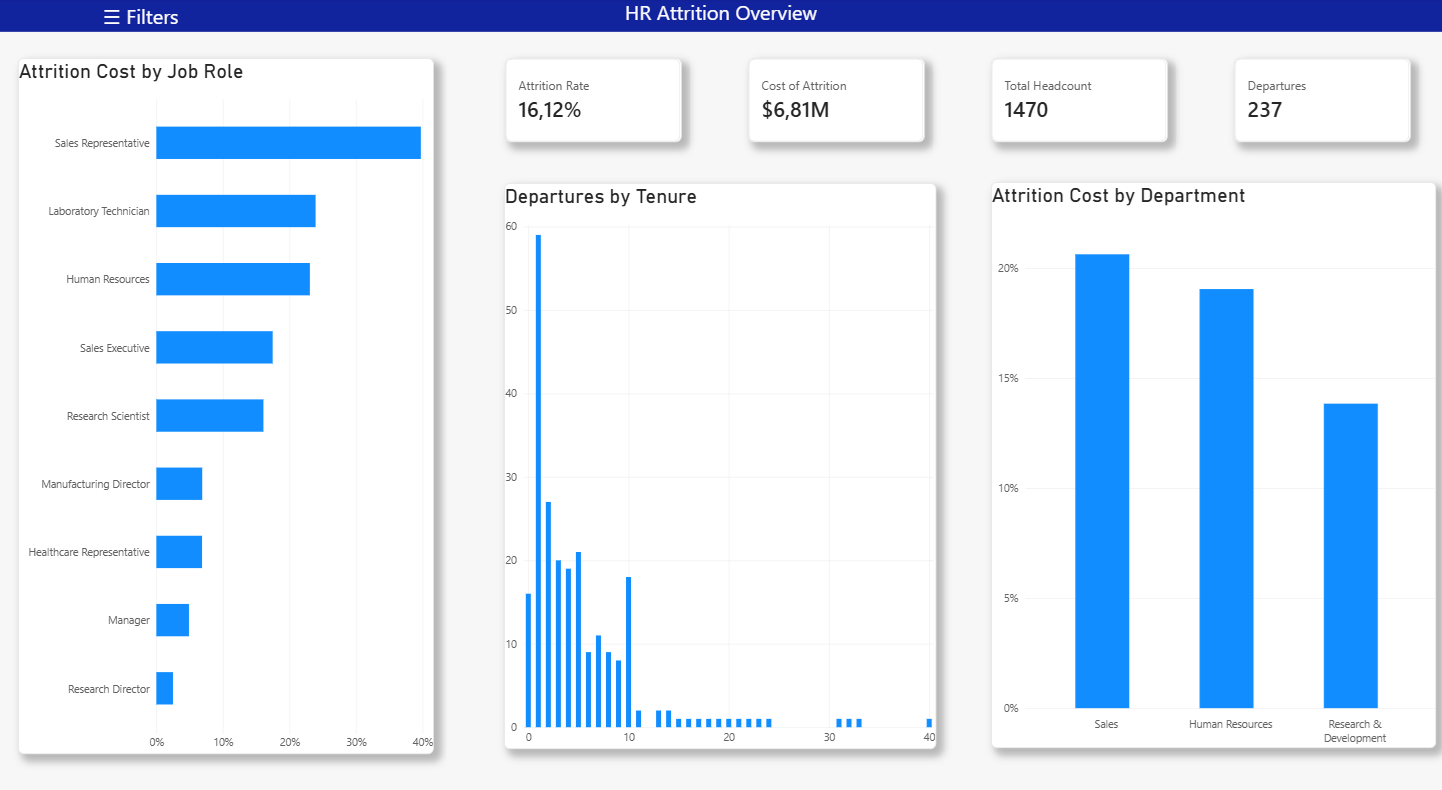

The dashboard page shown, as its layout file describes it:
{"tool":"powerbi","page":{"name":"Overview","canvas":[1920,1080],"ordinal":0},"visuals":[{"type":"cardVisual","fields":{"Data":["_Measures.Attrition Rate"]},"box":[672.6,80.2,234.9,112.3],"z":0},{"type":"columnChart","fields":{"Y":["_Measures.Attrition Rate","_Measures.Cost of Attrition"],"Category":["Dim_Role.Department"]},"box":[1318.9,245.1,592.3,752.8],"z":1000},{"type":"cardVisual","fields":{"Data":["_Measures.Cost of Attrition"]},"box":[996,80.2,234.9,112.3],"z":2000},{"type":"shape","box":[0,0,1920,45.2],"z":3000},{"type":"textbox","box":[816.3,0,287.4,45.2],"z":4000},{"type":"cardVisual","fields":{"Data":["CountNonNull(Fact_Attrition.EmployeeNumber)"]},"box":[1319.4,80.2,234.9,112.3],"z":5000},{"type":"cardVisual","fields":{"Data":["CountNonNull(Fact_Attrition.EmployeeNumber)"]},"box":[1642.8,80.2,234.9,112.3],"z":6000},{"type":"clusteredBarChart","fields":{"Y":["_Measures.Attrition Rate","_Measures.Cost of Attrition"],"Category":["Dim_Role.JobRole"]},"box":[24.8,80.2,552.9,926.4],"z":7000},{"type":"actionButton","box":[116.7,0,114.7,44.3],"z":7500},{"type":"clusteredColumnChart","fields":{"Category":["Fact_Attrition.YearsAtCompany"],"Y":["CountNonNull(Fact_Attrition.EmployeeNumber)"]},"box":[672.2,245.5,574.8,752.8],"z":8000}]}

Visuals, with their boxes in screenshot pixels (x1, y1, x2, y2), scaled from the page's 1920x1080 canvas onto the 1442x790 screenshot:
cardVisual - _Measures.Attrition Rate: x1=505, y1=59, x2=682, y2=141
columnChart - _Measures.Attrition Rate x _Measures.Cost of Attrition: x1=991, y1=179, x2=1435, y2=730
cardVisual - _Measures.Cost of Attrition: x1=748, y1=59, x2=924, y2=141
shape: x1=0, y1=0, x2=1441, y2=33
textbox: x1=613, y1=0, x2=829, y2=33
cardVisual - CountNonNull(Fact_Attrition.EmployeeNumber): x1=991, y1=59, x2=1167, y2=141
cardVisual - CountNonNull(Fact_Attrition.EmployeeNumber): x1=1234, y1=59, x2=1410, y2=141
clusteredBarChart - _Measures.Attrition Rate x _Measures.Cost of Attrition: x1=19, y1=59, x2=434, y2=736
actionButton: x1=88, y1=0, x2=174, y2=32
clusteredColumnChart - Fact_Attrition.YearsAtCompany x CountNonNull(Fact_Attrition.EmployeeNumber): x1=505, y1=180, x2=937, y2=730
